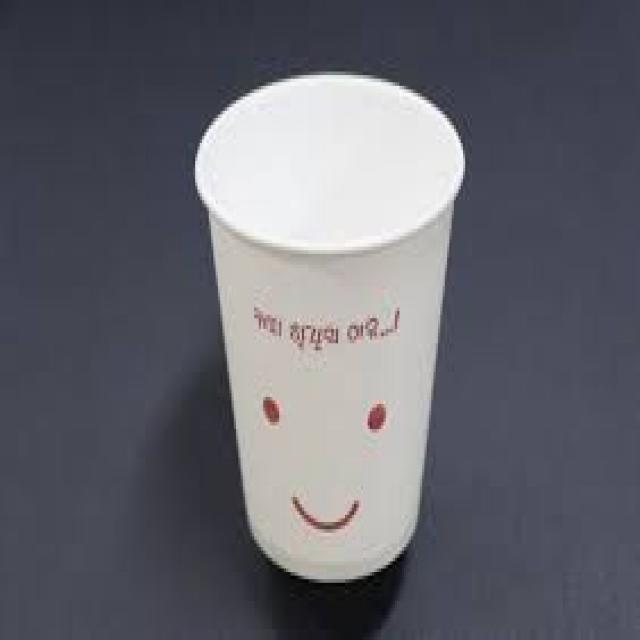trash: (193, 72, 467, 586)
